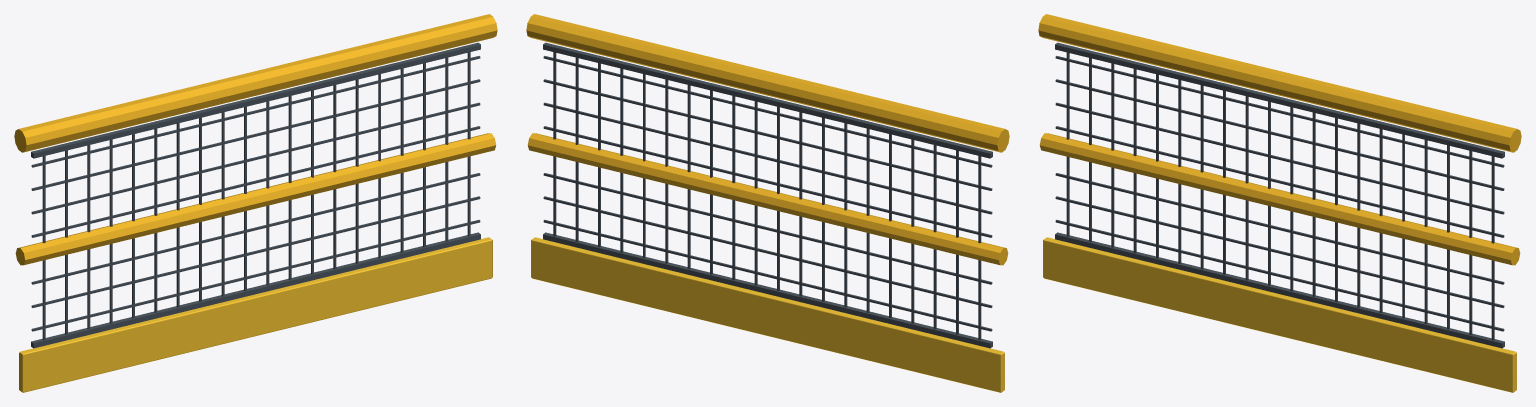
Rendered from rt_rail_freight.glb.
The picture shows the model from 3 angles, left to right: view 1: azimuth 30°, elevation 25°; view 2: azimuth 150°, elevation 25°; view 3: azimuth 330°, elevation 25°; orthographic projection.
Visible parts, largest first — view 1: rt_rail_freight_body; view 2: rt_rail_freight_body; view 3: rt_rail_freight_body.
Boxes of the visible parts, x1,y1,x2,y2 form: rt_rail_freight_body: (14, 14, 497, 392); rt_rail_freight_body: (526, 14, 1009, 392); rt_rail_freight_body: (1038, 14, 1521, 392).
Size of the model in its own units: 2 by 1.06 by 0.09.
